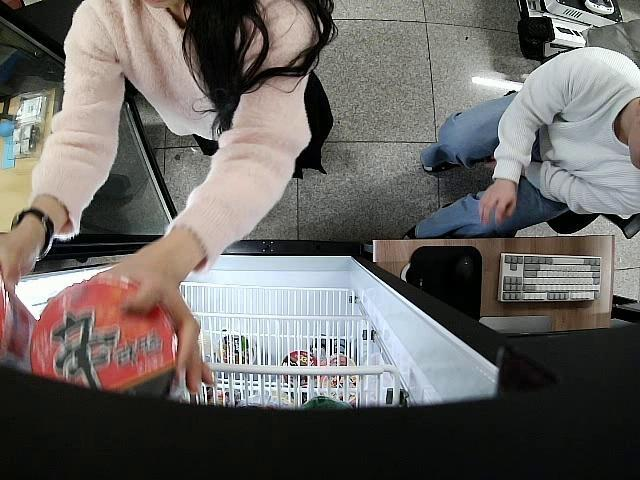01_ShinRamen_L: (35, 277, 180, 401)
